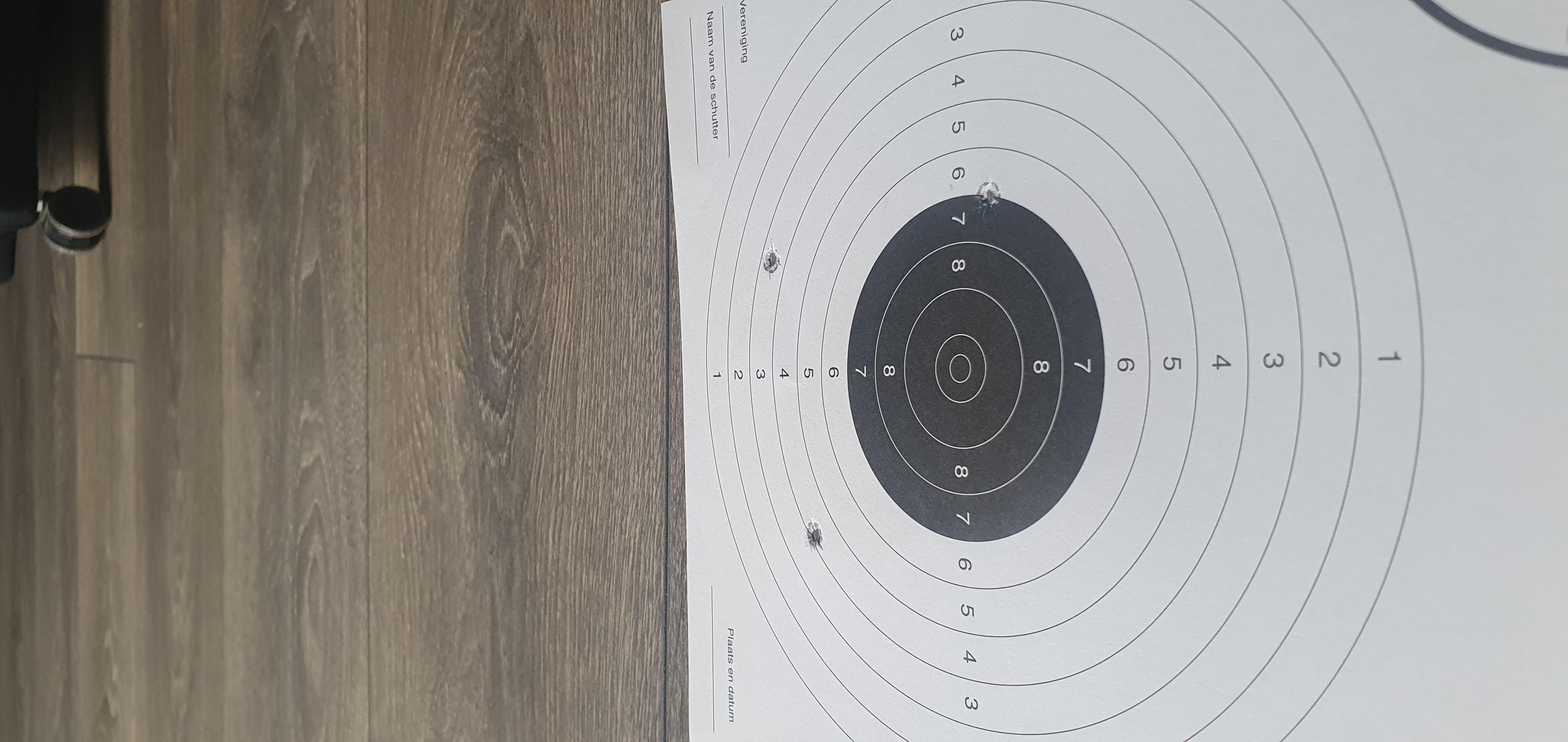hole: (1111, 461, 1192, 475), (974, 359, 1059, 370), (406, 379, 476, 390)
